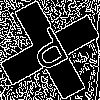P: (25, 25, 77, 81)
